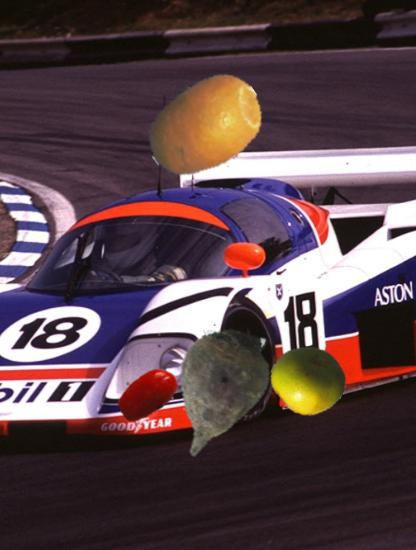Beetroot: (151, 325, 288, 462)
Kumquats: (144, 65, 266, 187)
Pomelo: (270, 343, 346, 419)
Tomato: (115, 361, 182, 428)
